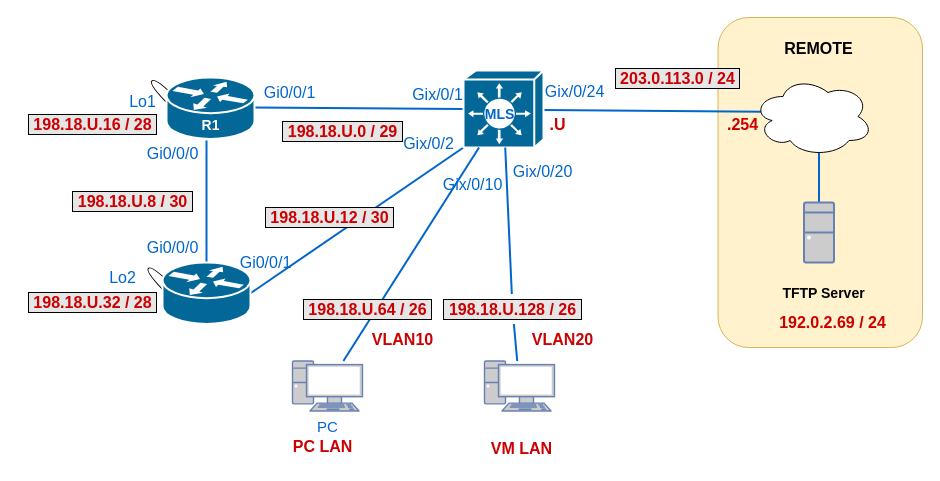
Image size: 940x481. Some labels were removed from this diagram. The shapes that lost their labels are listed below. From the top down, each one's centre as x and y in pixels, then its label:
At point (206, 292): "R2".
At point (519, 386): "VM".
